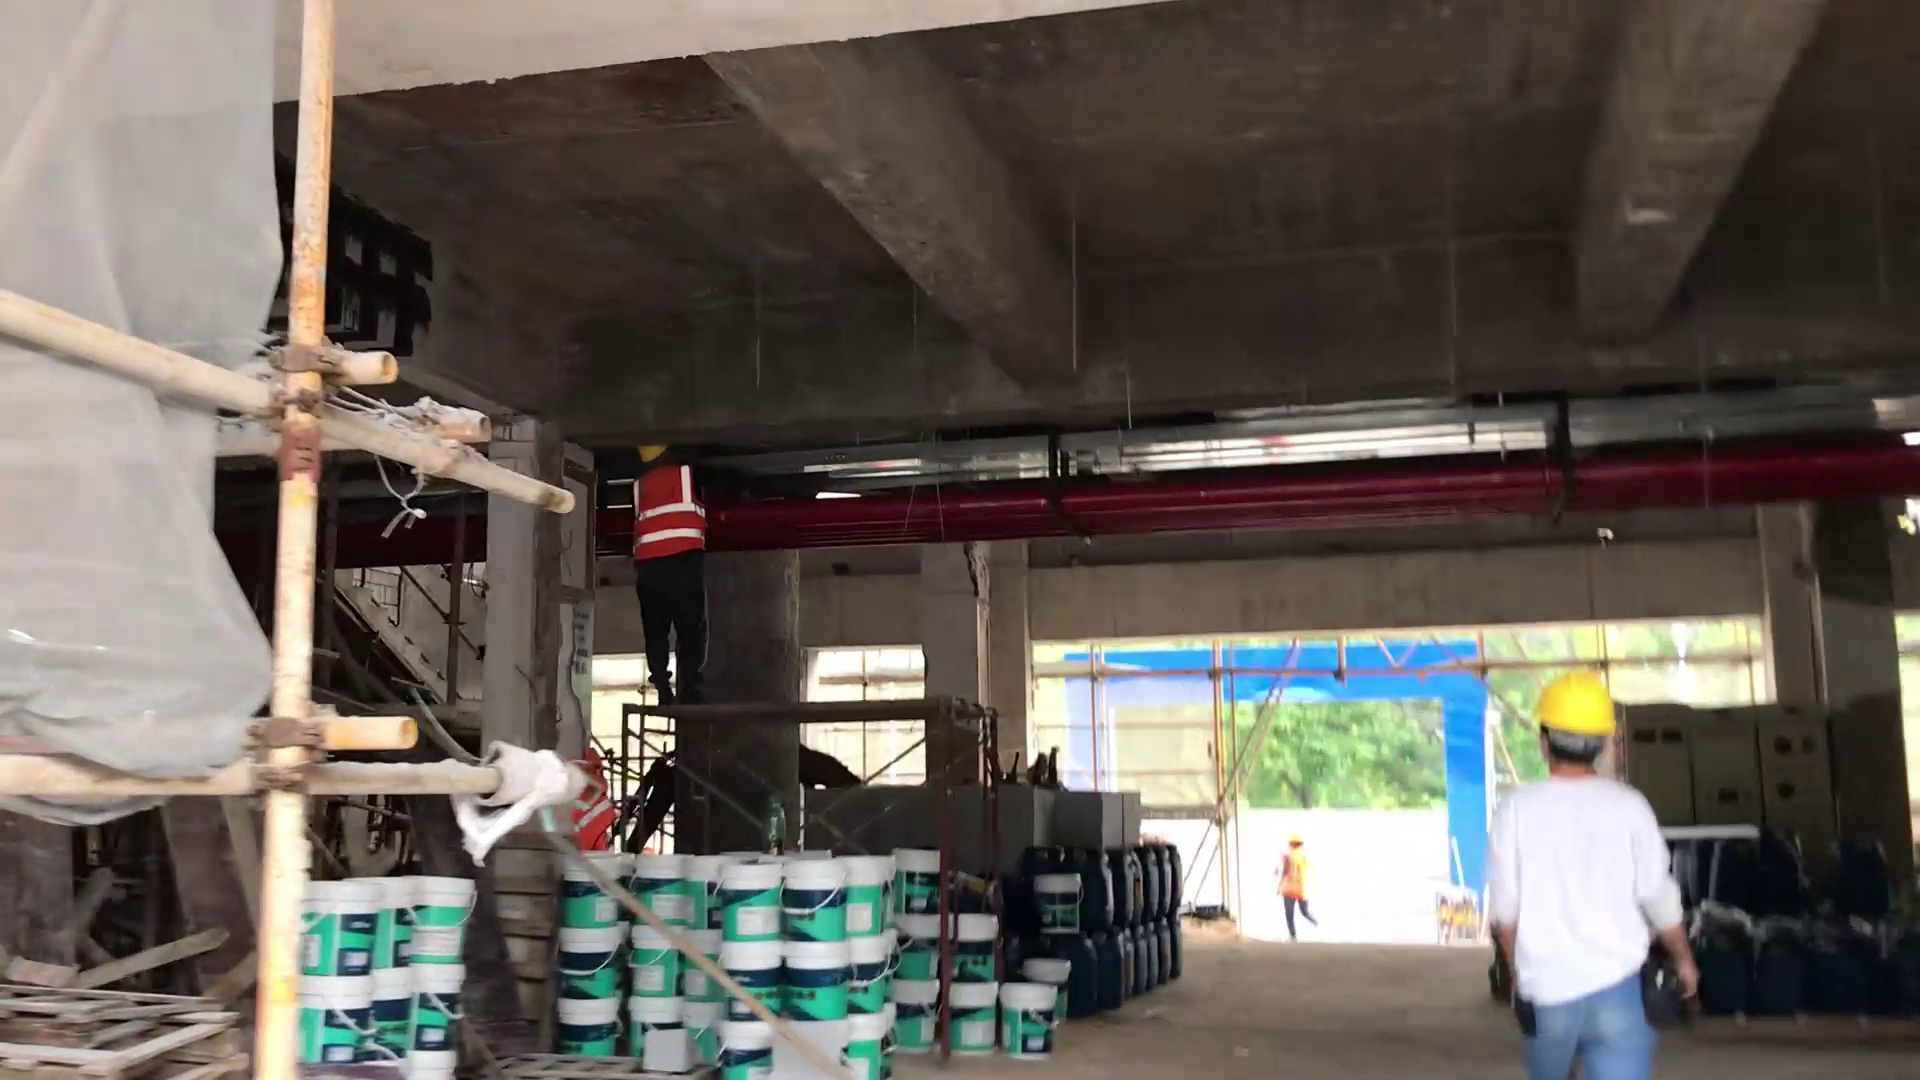helmet: (1532, 665, 1640, 739)
person: (1478, 658, 1710, 1080), (611, 426, 736, 738), (1258, 815, 1329, 967)
vest: (628, 467, 712, 564)
